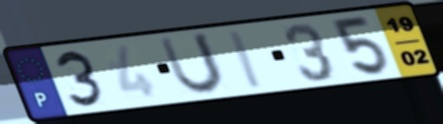3: (282, 21, 337, 84), (54, 48, 104, 110)
4: (114, 41, 160, 101)
5: (326, 12, 394, 77)
I: (224, 28, 267, 91)
U: (155, 30, 229, 97)
